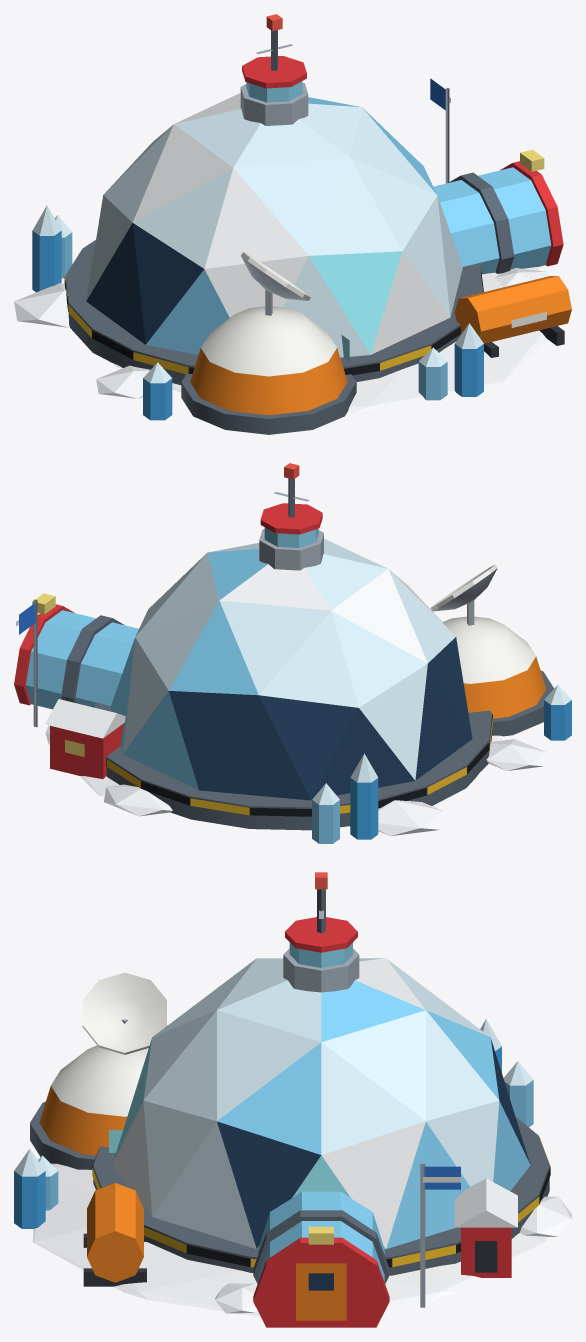
The model's file is ice_dome.glb.
3 views of the same model, one above another, from view 1: azimuth 30°, elevation 25°; view 2: azimuth 150°, elevation 25°; view 3: azimuth 270°, elevation 25° (orthographic). The views are drawn at different scales.
Visible parts, largest first — view 1: Body; view 2: Body; view 3: Body.
Part boxes in pixels (bbox=[...]): Body: bbox=[14, 14, 571, 434]; Body: bbox=[14, 463, 571, 843]; Body: bbox=[14, 872, 571, 1327].
Size of the model in its own units: 1.91 by 1.1 by 1.76.
